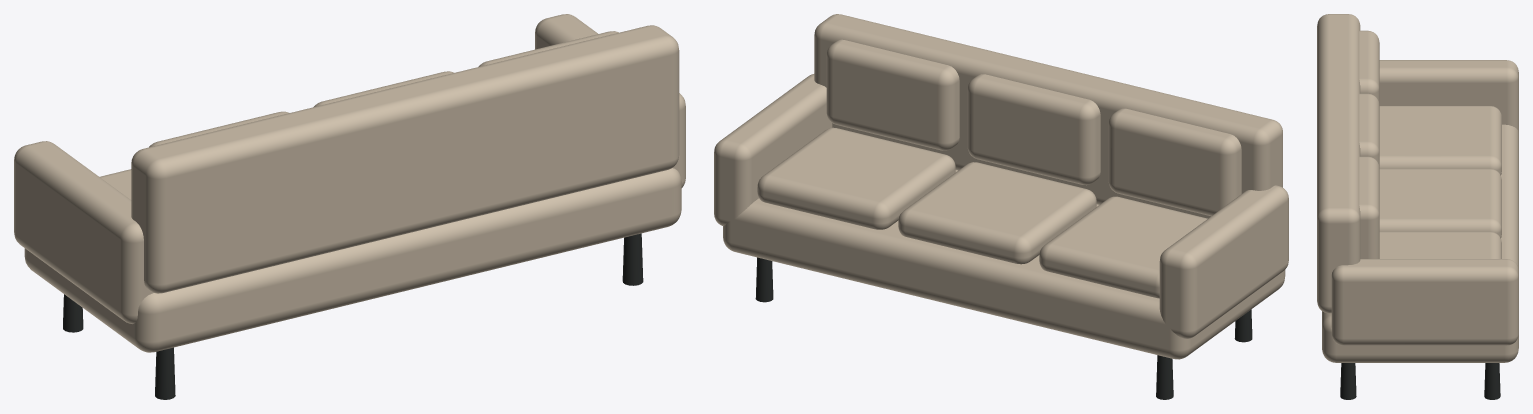
File: sofa-3-seat.glb
3 renders of one model, left to right at view 1: azimuth 30°, elevation 25°; view 2: azimuth 150°, elevation 25°; view 3: azimuth 270°, elevation 25°, orthographic. The views are drawn at different scales.
Parts seen in each view (by area): view 1: upholstery_back, upholstery_base, upholstery_arm_l, upholstery_arm_r, legs_-0.88_0.3, legs_0.88_0.3, legs_-0.88_-0.3, upholstery_back_cushion_0, upholstery_back_cushion_2, upholstery_back_cushion_1; view 2: upholstery_base, upholstery_back, upholstery_arm_l, upholstery_seat_2, upholstery_seat_1, upholstery_back_cushion_1, upholstery_back_cushion_2, upholstery_back_cushion_0, upholstery_seat_0, upholstery_arm_r, legs_0.88_-0.3, legs_-0.88_-0.3; view 3: upholstery_arm_r, upholstery_back, upholstery_seat_1, upholstery_seat_0, upholstery_arm_l, upholstery_base, upholstery_seat_2, upholstery_back_cushion_2, upholstery_back_cushion_0, upholstery_back_cushion_1, legs_0.88_-0.3, legs_0.88_0.3.
Part boxes in pixels (box(x1,y1,x2,y2)): upholstery_back: box(131, 25, 679, 293); upholstery_base: box(24, 168, 681, 352); upholstery_arm_l: box(14, 141, 153, 323); upholstery_arm_r: box(535, 14, 685, 187); legs_-0.88_0.3: box(155, 347, 175, 399); legs_0.88_0.3: box(622, 233, 643, 285); legs_-0.88_-0.3: box(63, 294, 83, 332); upholstery_back_cushion_0: box(149, 111, 288, 147); upholstery_back_cushion_2: box(478, 31, 618, 66); upholstery_back_cushion_1: box(313, 71, 453, 107); upholstery_base: box(723, 170, 1285, 359); upholstery_back: box(814, 14, 1282, 218); upholstery_arm_l: box(1159, 185, 1288, 338); upholstery_seat_2: box(757, 127, 955, 229); upholstery_seat_1: box(898, 162, 1096, 264); upholstery_back_cushion_1: box(967, 74, 1100, 185); upholstery_back_cushion_2: box(826, 39, 959, 150); upholstery_back_cushion_0: box(1108, 108, 1241, 216); upholstery_seat_0: box(1039, 196, 1207, 298); upholstery_arm_r: box(714, 74, 832, 225); legs_0.88_-0.3: box(755, 257, 773, 302); legs_-0.88_-0.3: box(1156, 355, 1173, 399); upholstery_arm_r: box(1331, 259, 1518, 345); upholstery_back: box(1317, 14, 1360, 313); upholstery_seat_1: box(1379, 168, 1501, 238); upholstery_seat_0: box(1379, 106, 1501, 175); upholstery_arm_l: box(1379, 60, 1518, 132); upholstery_base: box(1322, 124, 1518, 362); upholstery_seat_2: box(1379, 231, 1501, 258); upholstery_back_cushion_2: box(1359, 156, 1379, 258); upholstery_back_cushion_0: box(1359, 30, 1379, 104); upholstery_back_cushion_1: box(1359, 93, 1379, 167); legs_0.88_-0.3: box(1484, 363, 1500, 399); legs_0.88_0.3: box(1340, 363, 1356, 399).
Bounding box in the file's own units: 1.93 × 0.82 × 0.7653.
